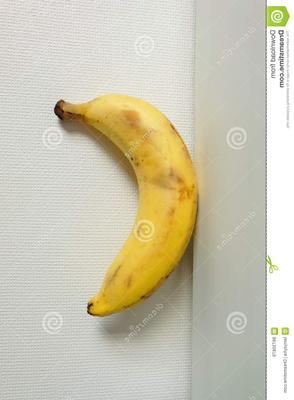banana: (0, 0, 294, 400)
